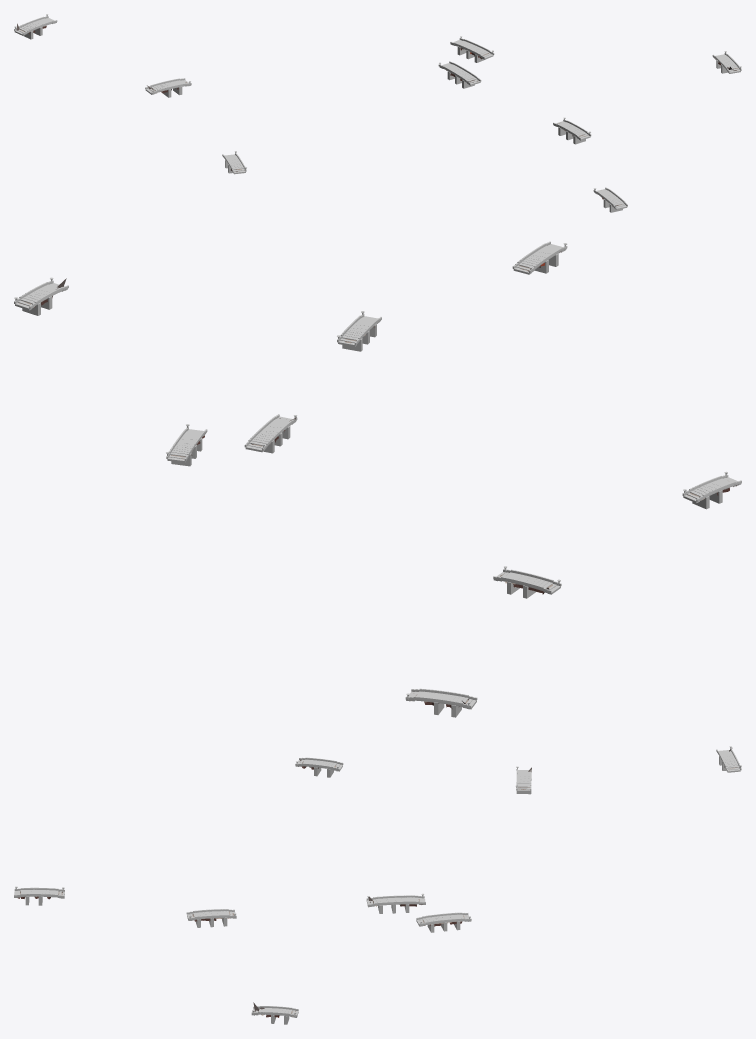
File: Dungeon-3-Bridges.fbx
3 renders of one model, top to bottom at view 1: azimuth 30°, elevation 25°; view 2: azimuth 150°, elevation 25°; view 3: azimuth 270°, elevation 25°, orthographic. The views are drawn at different scales.
Parts seen in each view (by area): view 1: Dungeon-3-Bridges-f9, Dungeon-3-Bridges-f0, Dungeon-3-Bridges-f4, Dungeon-3-Bridges-f1, Dungeon-3-Bridges-f2, Dungeon-3-Bridges-f5, Dungeon-3-Bridges-f3, Dungeon-3-Bridges-f6; view 2: Dungeon-3-Bridges-f0, Dungeon-3-Bridges-f2, Dungeon-3-Bridges-f1, Dungeon-3-Bridges-f6, Dungeon-3-Bridges-f5, Dungeon-3-Bridges-f4, Dungeon-3-Bridges-f9, Dungeon-3-Bridges-f3; view 3: Dungeon-3-Bridges-f0, Dungeon-3-Bridges-f9, Dungeon-3-Bridges-f4, Dungeon-3-Bridges-f5, Dungeon-3-Bridges-f6, Dungeon-3-Bridges-f3.
Part boxes in pixels (x1,y1,x2,y2): Dungeon-3-Bridges-f9: (450, 36, 494, 62); Dungeon-3-Bridges-f0: (438, 61, 481, 88); Dungeon-3-Bridges-f4: (553, 117, 591, 144); Dungeon-3-Bridges-f1: (145, 78, 191, 97); Dungeon-3-Bridges-f2: (14, 14, 57, 39); Dungeon-3-Bridges-f5: (593, 187, 627, 212); Dungeon-3-Bridges-f3: (712, 51, 741, 73); Dungeon-3-Bridges-f6: (222, 151, 246, 174); Dungeon-3-Bridges-f0: (244, 414, 297, 453); Dungeon-3-Bridges-f2: (405, 688, 477, 717); Dungeon-3-Bridges-f1: (493, 566, 561, 598); Dungeon-3-Bridges-f6: (682, 471, 741, 509); Dungeon-3-Bridges-f5: (512, 241, 567, 274); Dungeon-3-Bridges-f4: (337, 311, 381, 351); Dungeon-3-Bridges-f9: (166, 424, 207, 466); Dungeon-3-Bridges-f3: (14, 277, 68, 315); Dungeon-3-Bridges-f0: (366, 893, 425, 913); Dungeon-3-Bridges-f9: (416, 912, 471, 932); Dungeon-3-Bridges-f4: (186, 909, 236, 927); Dungeon-3-Bridges-f5: (14, 886, 64, 905); Dungeon-3-Bridges-f6: (295, 757, 343, 777); Dungeon-3-Bridges-f3: (251, 1006, 298, 1024).
Size of the model in its own units: 73.18 by 1.94 by 84.21.
